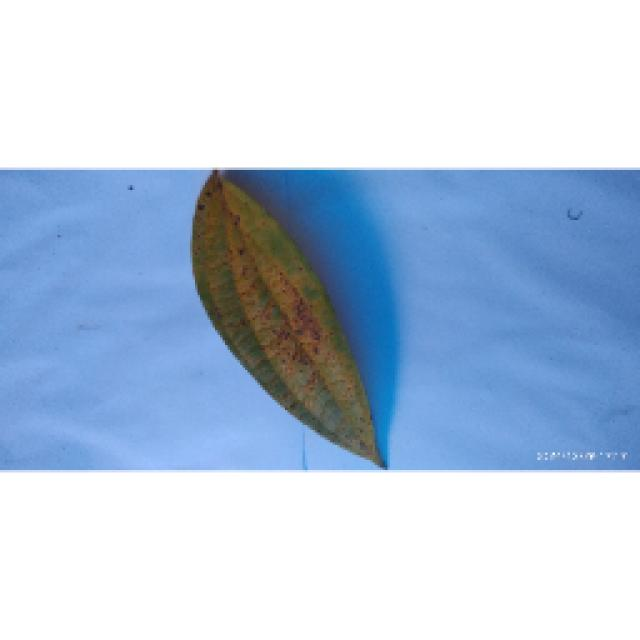slow-decline: (187, 168, 385, 468)
